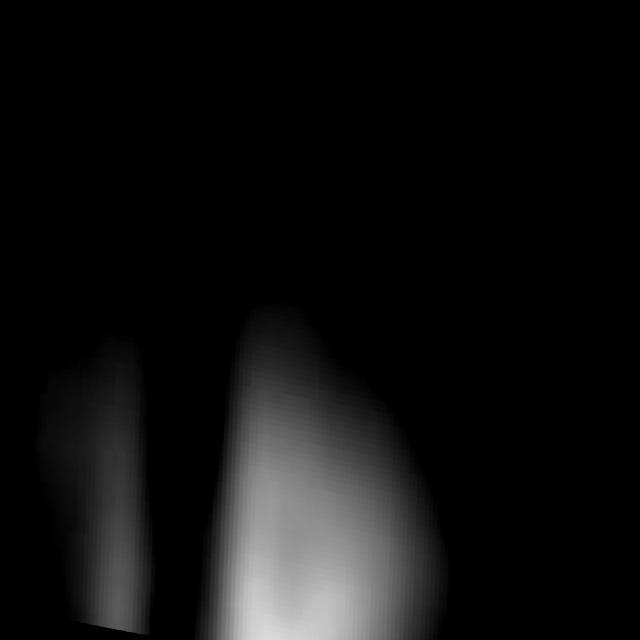person: (182, 279, 464, 640)
